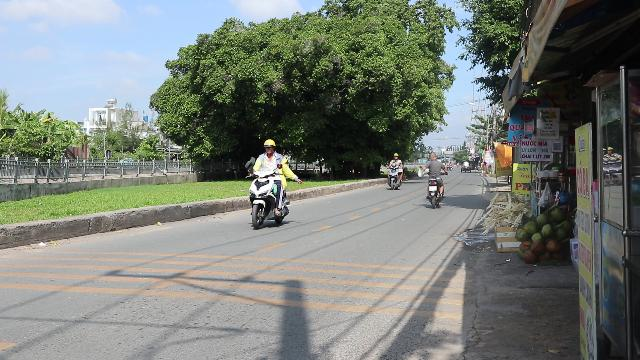helmet: (263, 138, 277, 154)
motorcyclist: (244, 138, 304, 229)
